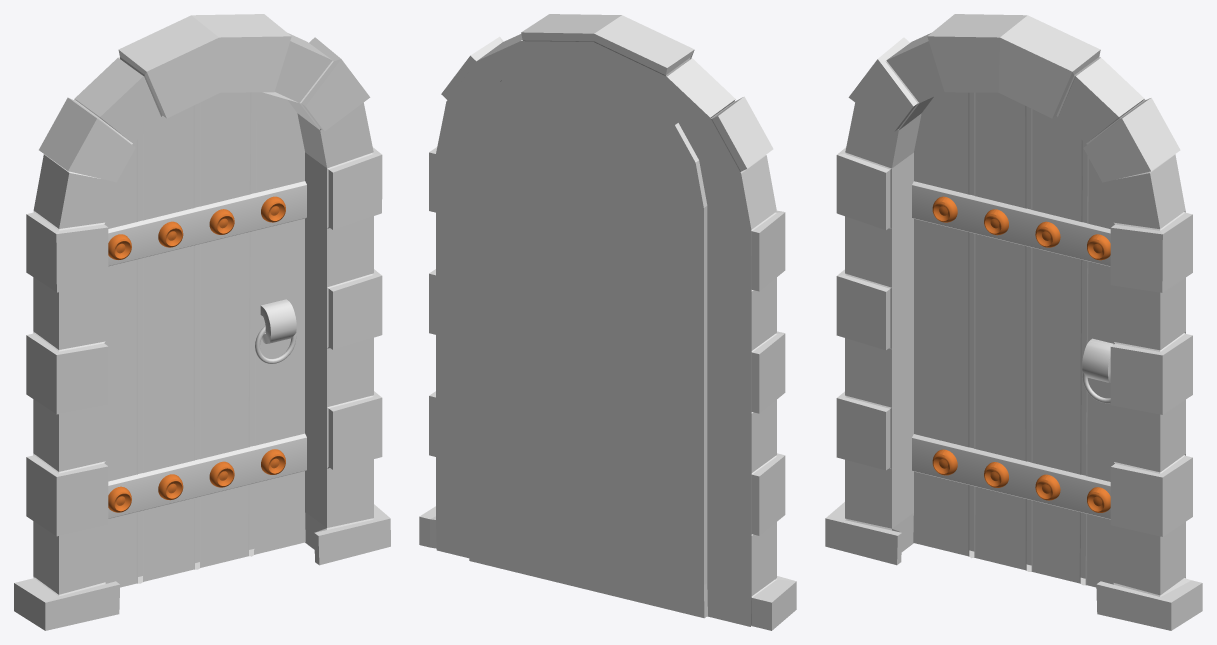
Rendered from Door.fbx.
3 views of the same model, side by side, from view 1: azimuth 30°, elevation 25°; view 2: azimuth 150°, elevation 25°; view 3: azimuth 330°, elevation 25° (orthographic).
Parts seen in each view (by area): view 1: Circle, Circle.001, Plane, Plane.001, Plane.002; view 2: Circle.001, Circle; view 3: Circle, Circle.001, Plane, Plane.001, Plane.002.
Boxes of the visible parts, x1,y1,x2,y2 form: Circle: (14, 14, 390, 630); Circle.001: (105, 92, 305, 587); Plane: (108, 181, 306, 266); Plane.001: (108, 433, 306, 518); Plane.002: (255, 299, 296, 363); Circle.001: (469, 67, 707, 618); Circle: (419, 14, 796, 630); Circle: (825, 14, 1202, 630); Circle.001: (913, 92, 1113, 587); Plane: (912, 181, 1110, 266); Plane.001: (912, 434, 1110, 519); Plane.002: (1082, 338, 1113, 403).
Bounding box in the file's own units: 1090 × 1639 × 180.
